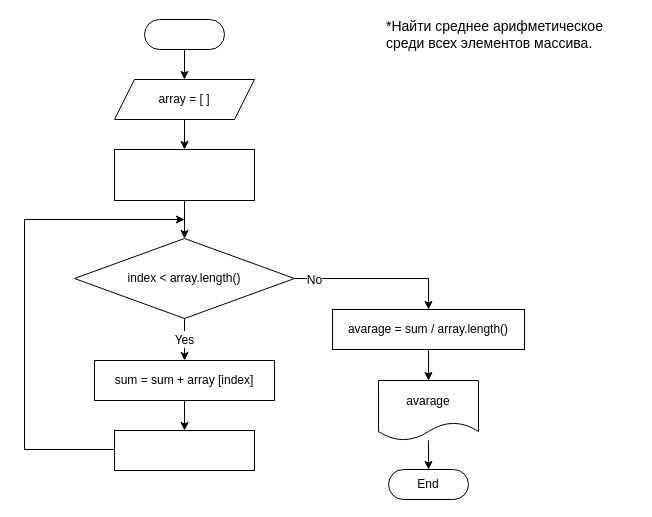
This 652x517 diagram has some shape labels left out. The shapes that lost their labels are listed below. From the top down, each one's centre as x and y in pixels, then its label:
At point 184,34: "Start".
At point 184,174: "index = 0 sum = 0".
At point 184,450: "index = index + 1".
